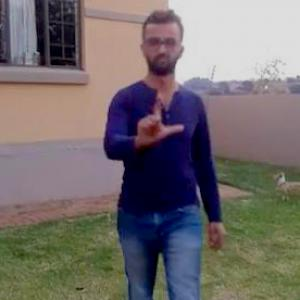land_hand: (134, 90, 184, 152)
